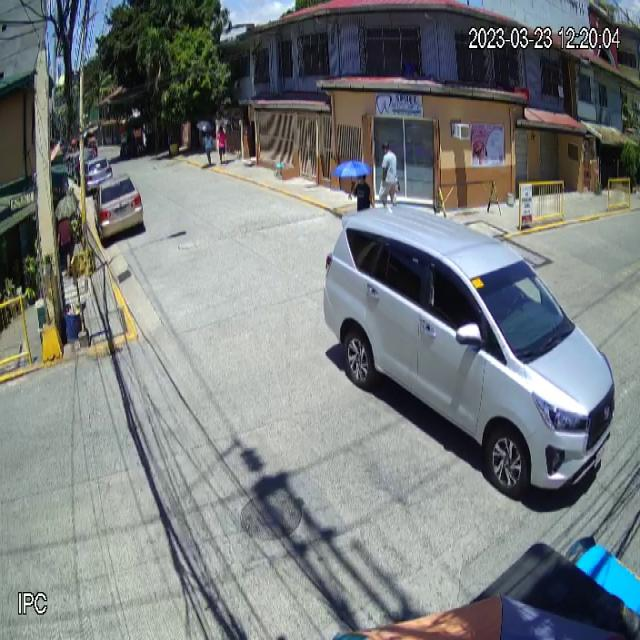Car: (322, 203, 615, 502)
